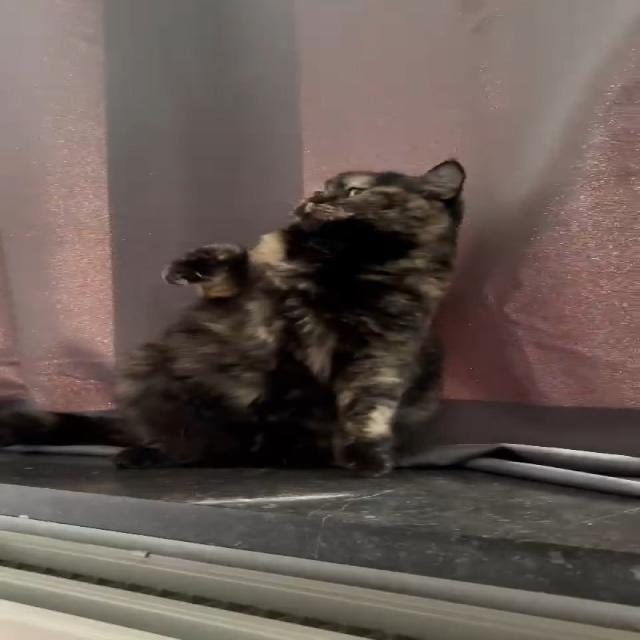authorized: (3, 158, 468, 478)
